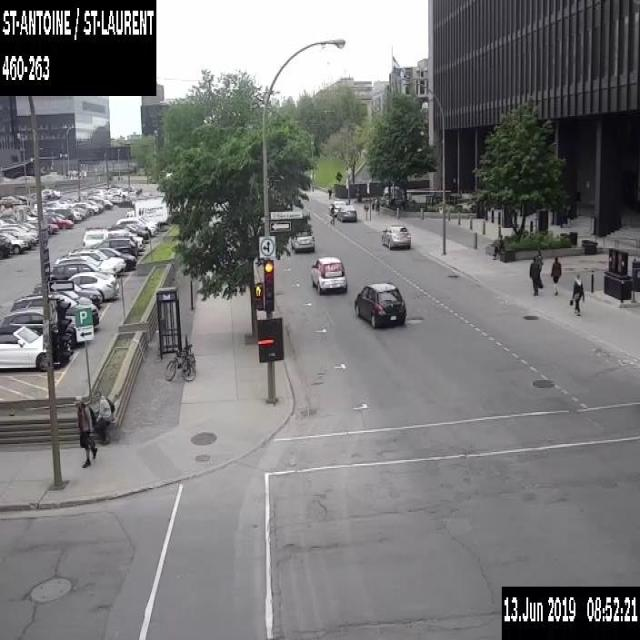pedestrian: (75, 394, 96, 467), (95, 390, 115, 444), (569, 271, 584, 316), (528, 255, 542, 295), (549, 254, 561, 295), (535, 248, 543, 272), (330, 202, 334, 225), (374, 195, 379, 212), (371, 197, 376, 209), (327, 186, 331, 199)
vehicle: (0, 306, 75, 350), (10, 290, 98, 325), (354, 282, 406, 330), (0, 324, 47, 371), (67, 270, 119, 301), (311, 254, 347, 294), (82, 227, 144, 250), (50, 260, 116, 280), (32, 283, 91, 305), (125, 194, 169, 223), (68, 248, 126, 270), (90, 236, 137, 258), (54, 255, 116, 270), (116, 215, 159, 236), (98, 246, 136, 268), (0, 225, 36, 247), (0, 222, 38, 242), (381, 224, 410, 248), (107, 222, 149, 238), (73, 281, 102, 304), (0, 231, 27, 253), (290, 230, 314, 251), (68, 201, 98, 215), (336, 203, 356, 222), (45, 208, 74, 221), (87, 194, 112, 208), (46, 216, 74, 228), (0, 195, 22, 208), (71, 204, 94, 216), (329, 199, 345, 215), (86, 199, 103, 211), (103, 187, 117, 199), (70, 206, 88, 215), (42, 211, 65, 218), (111, 189, 122, 203), (0, 242, 9, 258), (41, 187, 54, 198), (92, 188, 107, 197), (47, 222, 58, 234), (14, 194, 27, 204), (117, 187, 128, 197), (72, 209, 82, 219), (53, 189, 60, 198), (41, 191, 44, 198)
